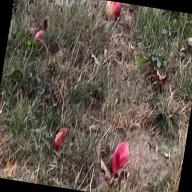Apples: (109, 142, 130, 173), (104, 1, 122, 21)
